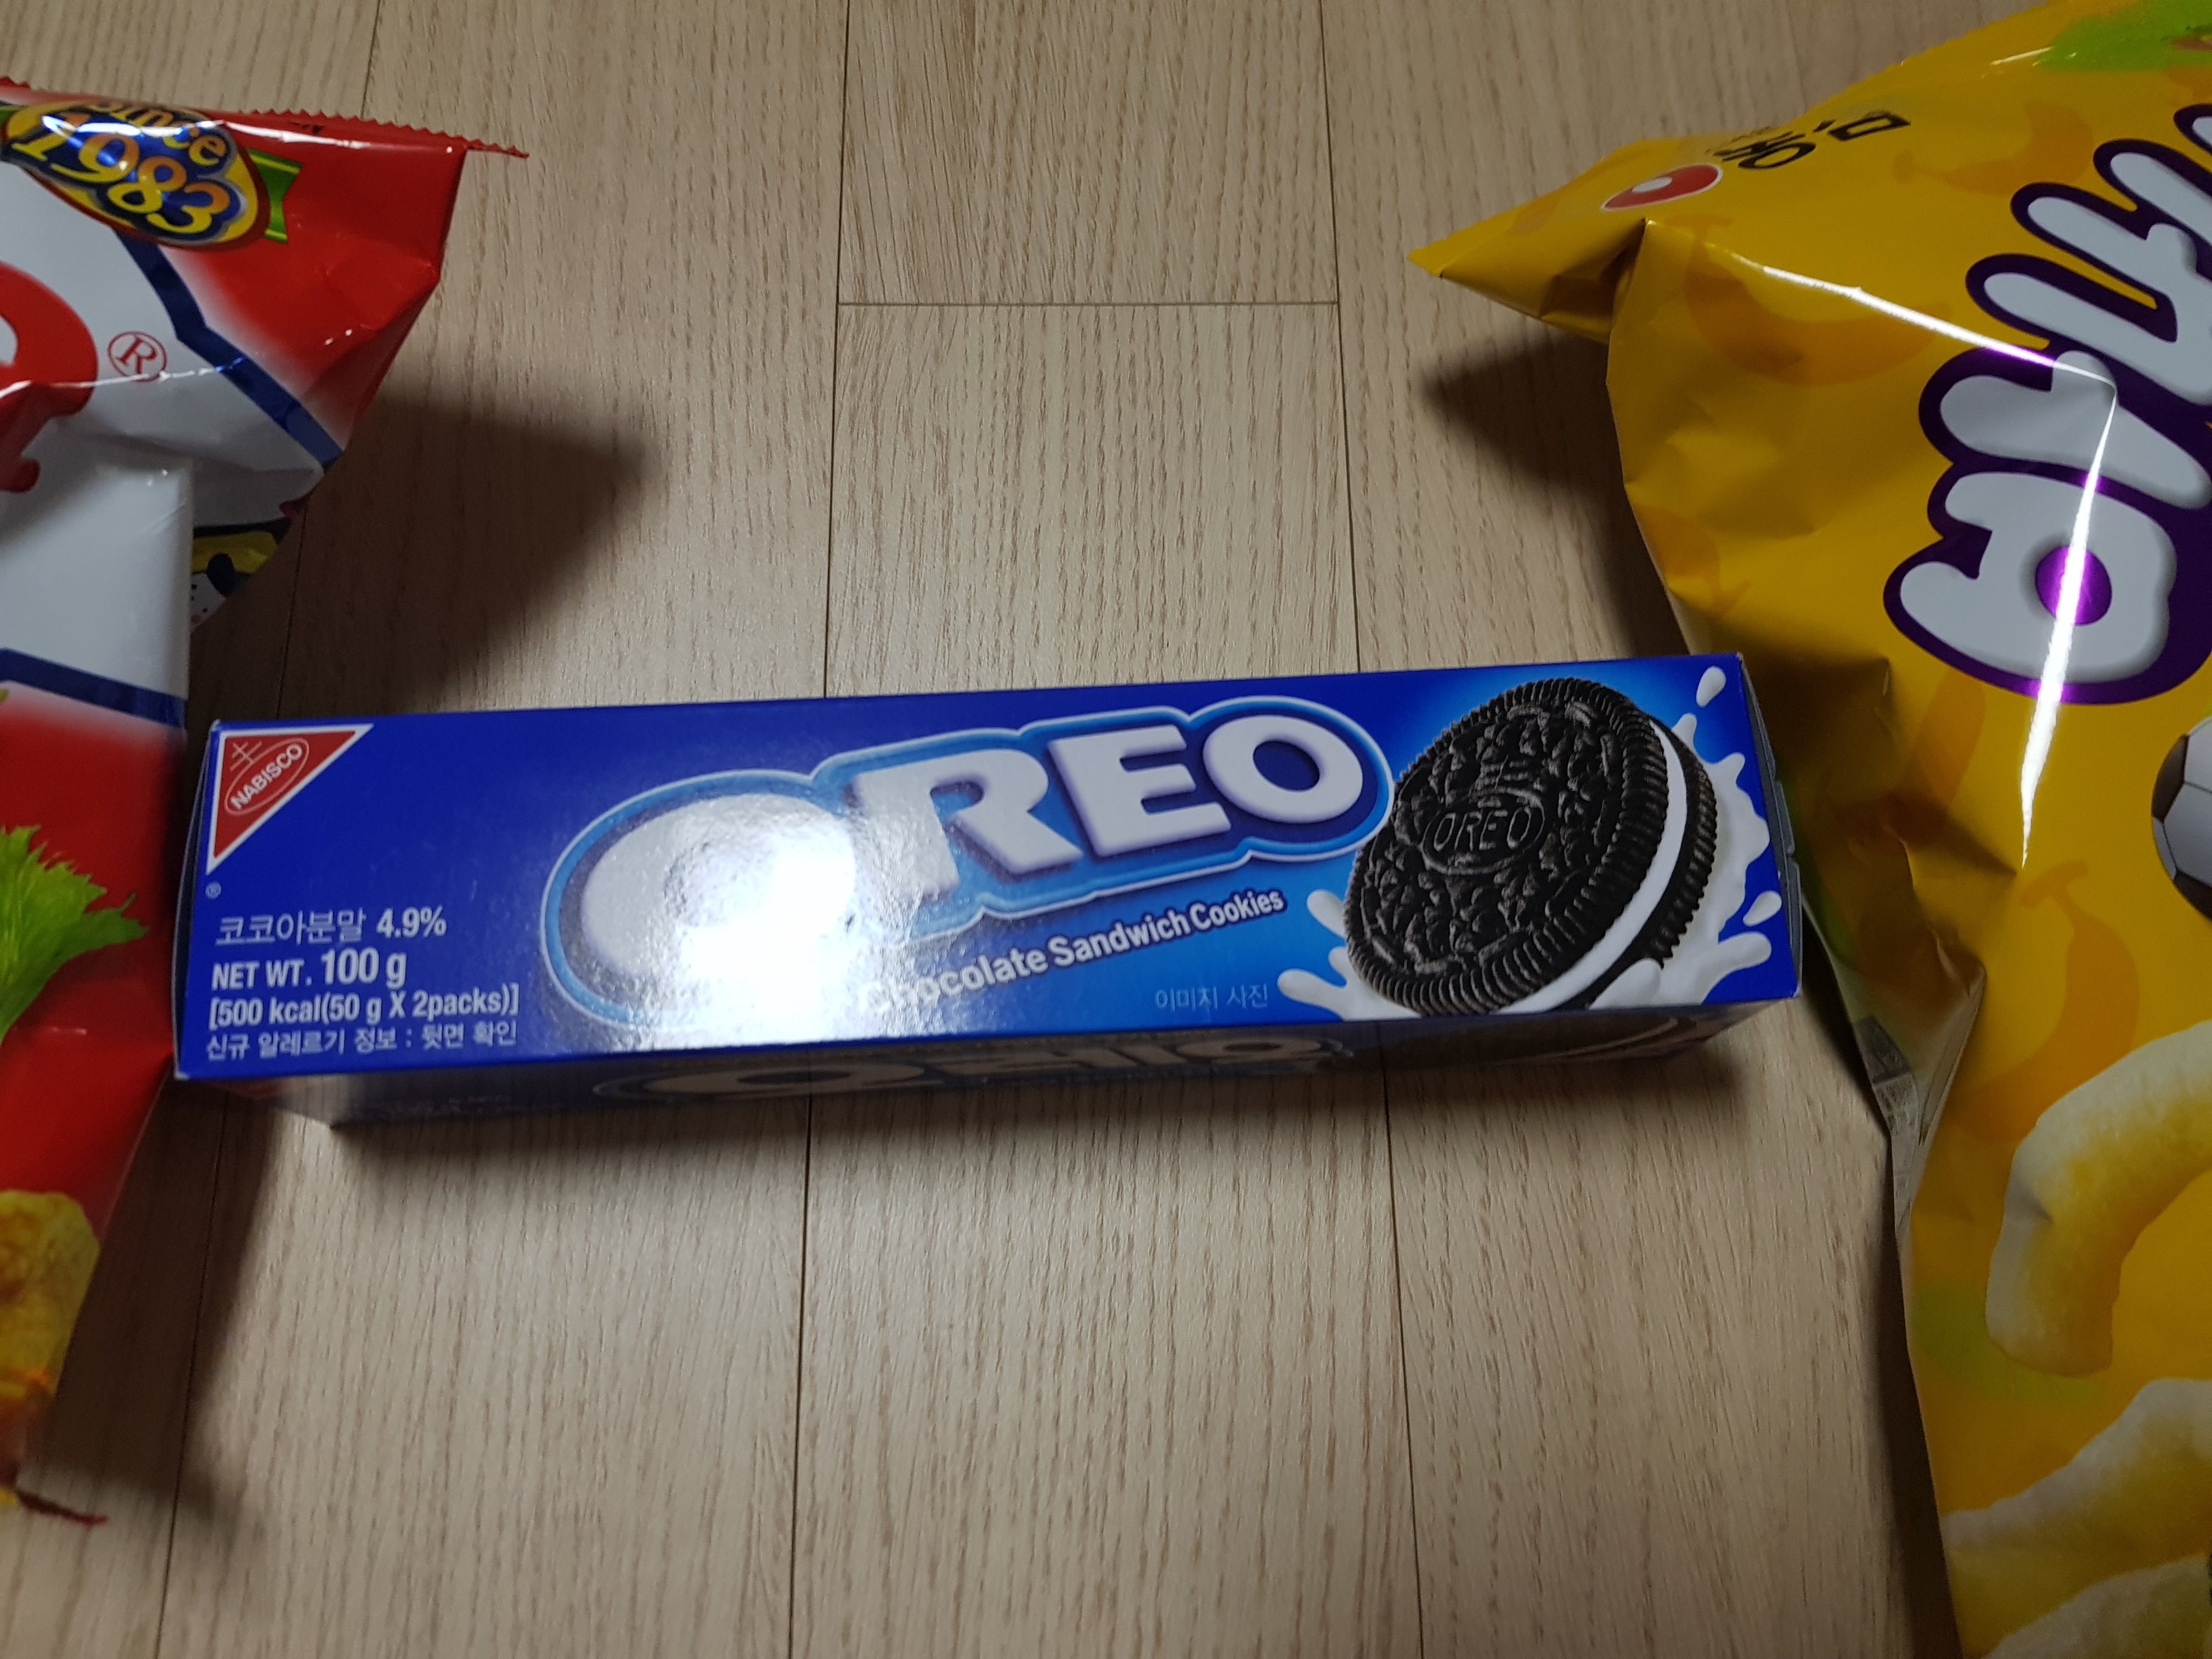banana: (1440, 26, 2212, 1659)
ggoggalcon: (3, 54, 465, 1598)
oreo: (167, 645, 1813, 1103)
